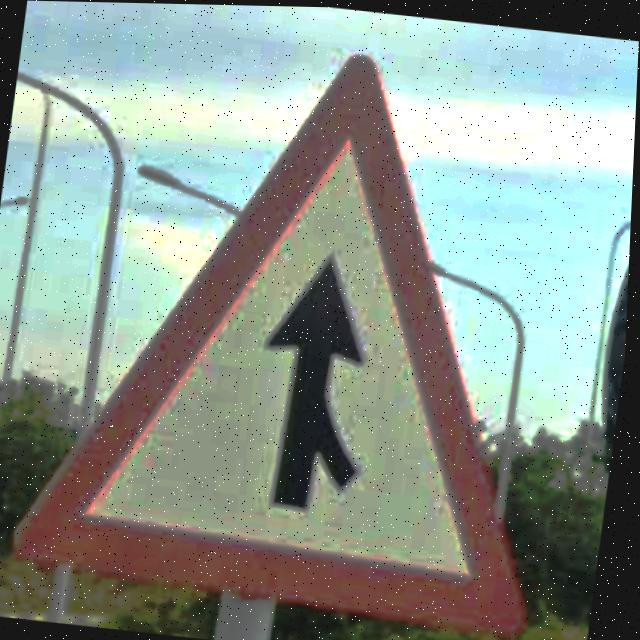rightmerge: (16, 54, 528, 635)
